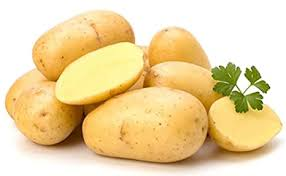potato: (76, 96, 211, 163), (25, 10, 140, 76), (1, 68, 82, 146), (53, 46, 153, 104), (208, 89, 281, 148), (146, 55, 233, 99), (146, 20, 205, 64)
